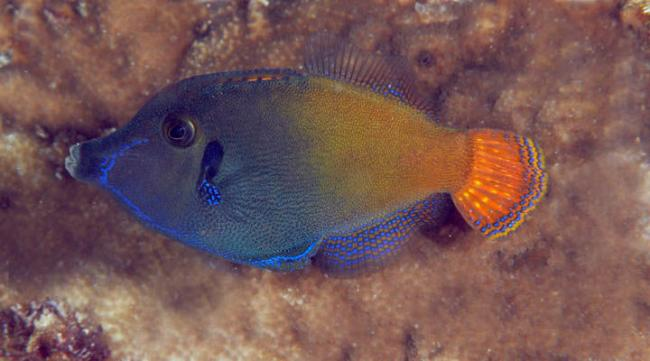fish: (65, 33, 551, 273)
